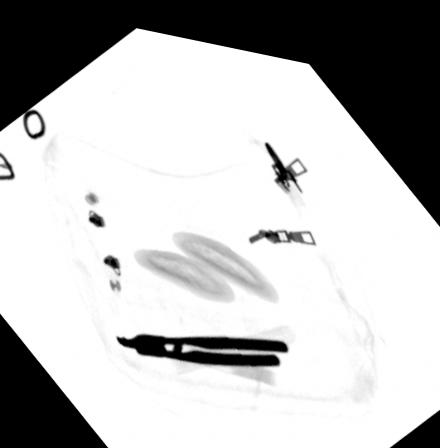Pliers: (115, 326, 288, 357)
